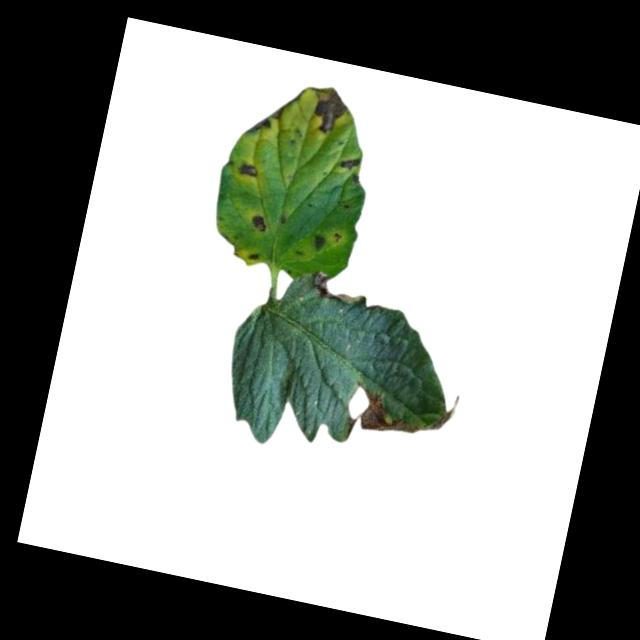Early_blight: (341, 373, 467, 457), (300, 81, 352, 139), (308, 269, 363, 310), (245, 113, 272, 137), (335, 153, 363, 171), (249, 211, 270, 234), (239, 159, 261, 179), (311, 230, 330, 252), (246, 248, 261, 260)
